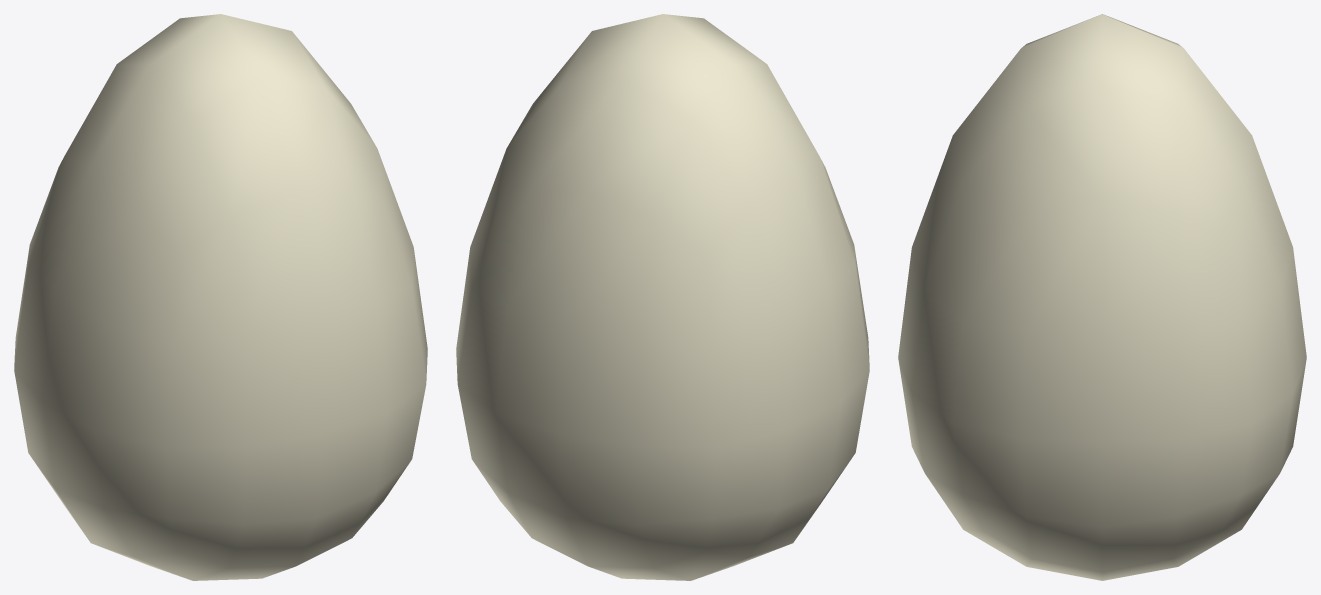
The model's file is egg_fractured.fbx.
3 views of the same model, side by side, from view 1: azimuth 30°, elevation 25°; view 2: azimuth 150°, elevation 25°; view 3: azimuth 270°, elevation 25° (orthographic).
Parts seen in each view (by area): view 1: egg_fractured1; view 2: egg_fractured1; view 3: egg_fractured1.
Boxes of the visible parts, x1,y1,x2,y2 form: egg_fractured1: [14, 14, 427, 580]; egg_fractured1: [456, 14, 869, 580]; egg_fractured1: [898, 14, 1306, 580].
Size of the model in its own units: 0.8785 by 1.29 by 0.8785.
